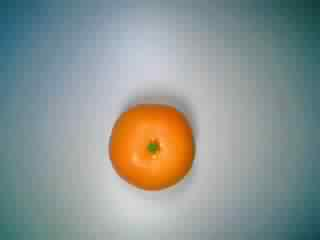orange: (102, 99, 201, 196)
